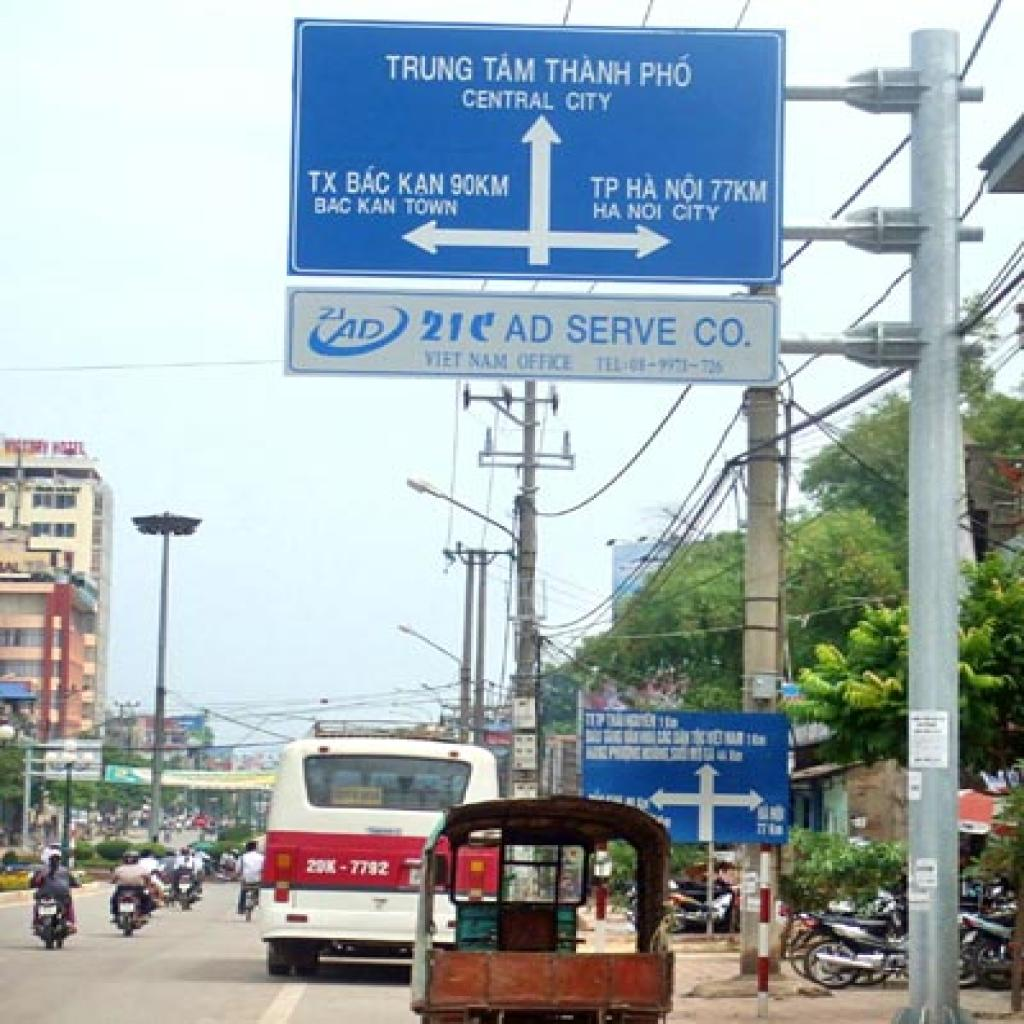text: (563, 313, 681, 347), (543, 52, 635, 88), (415, 308, 499, 347), (384, 52, 476, 84), (458, 86, 558, 114), (638, 52, 696, 92), (481, 50, 540, 86), (694, 315, 755, 349), (320, 319, 387, 349), (448, 170, 512, 200), (706, 177, 770, 207), (502, 313, 556, 347), (343, 164, 394, 196), (397, 170, 448, 200), (663, 172, 707, 205), (515, 352, 576, 375), (400, 198, 464, 218), (563, 91, 617, 114), (625, 170, 663, 200), (671, 205, 727, 224), (466, 351, 514, 373), (422, 349, 468, 371), (312, 196, 356, 218), (624, 201, 666, 224), (307, 168, 341, 196), (356, 196, 399, 218), (589, 174, 622, 200), (592, 201, 628, 222), (594, 356, 632, 375), (315, 306, 351, 323)
